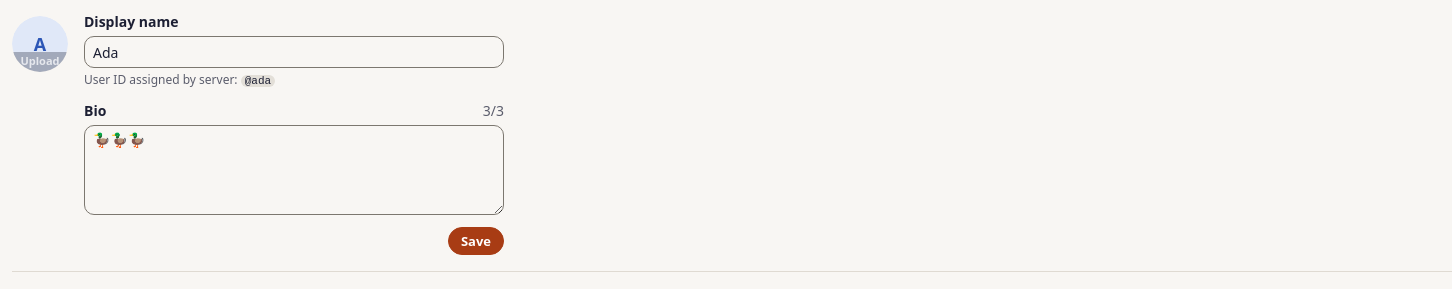
Test case: ProfileEditor › counts a bio in characters, and holds Save while it is over maxBio
Replace the text in the text box named "Bio" with "🦆🦆🦆🦆": (294, 170) x1=84 y1=125 x2=504 y2=215
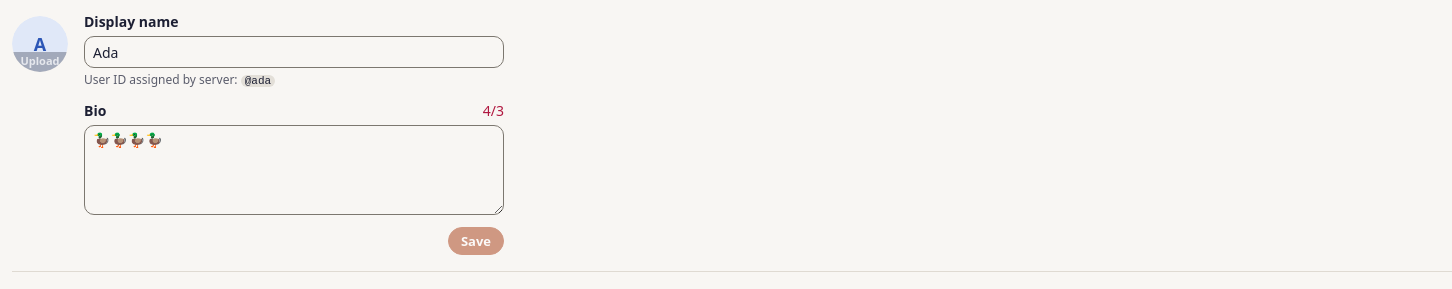
Now the text "4/3" is shown, box x1=483 y1=101 x2=504 y2=121
